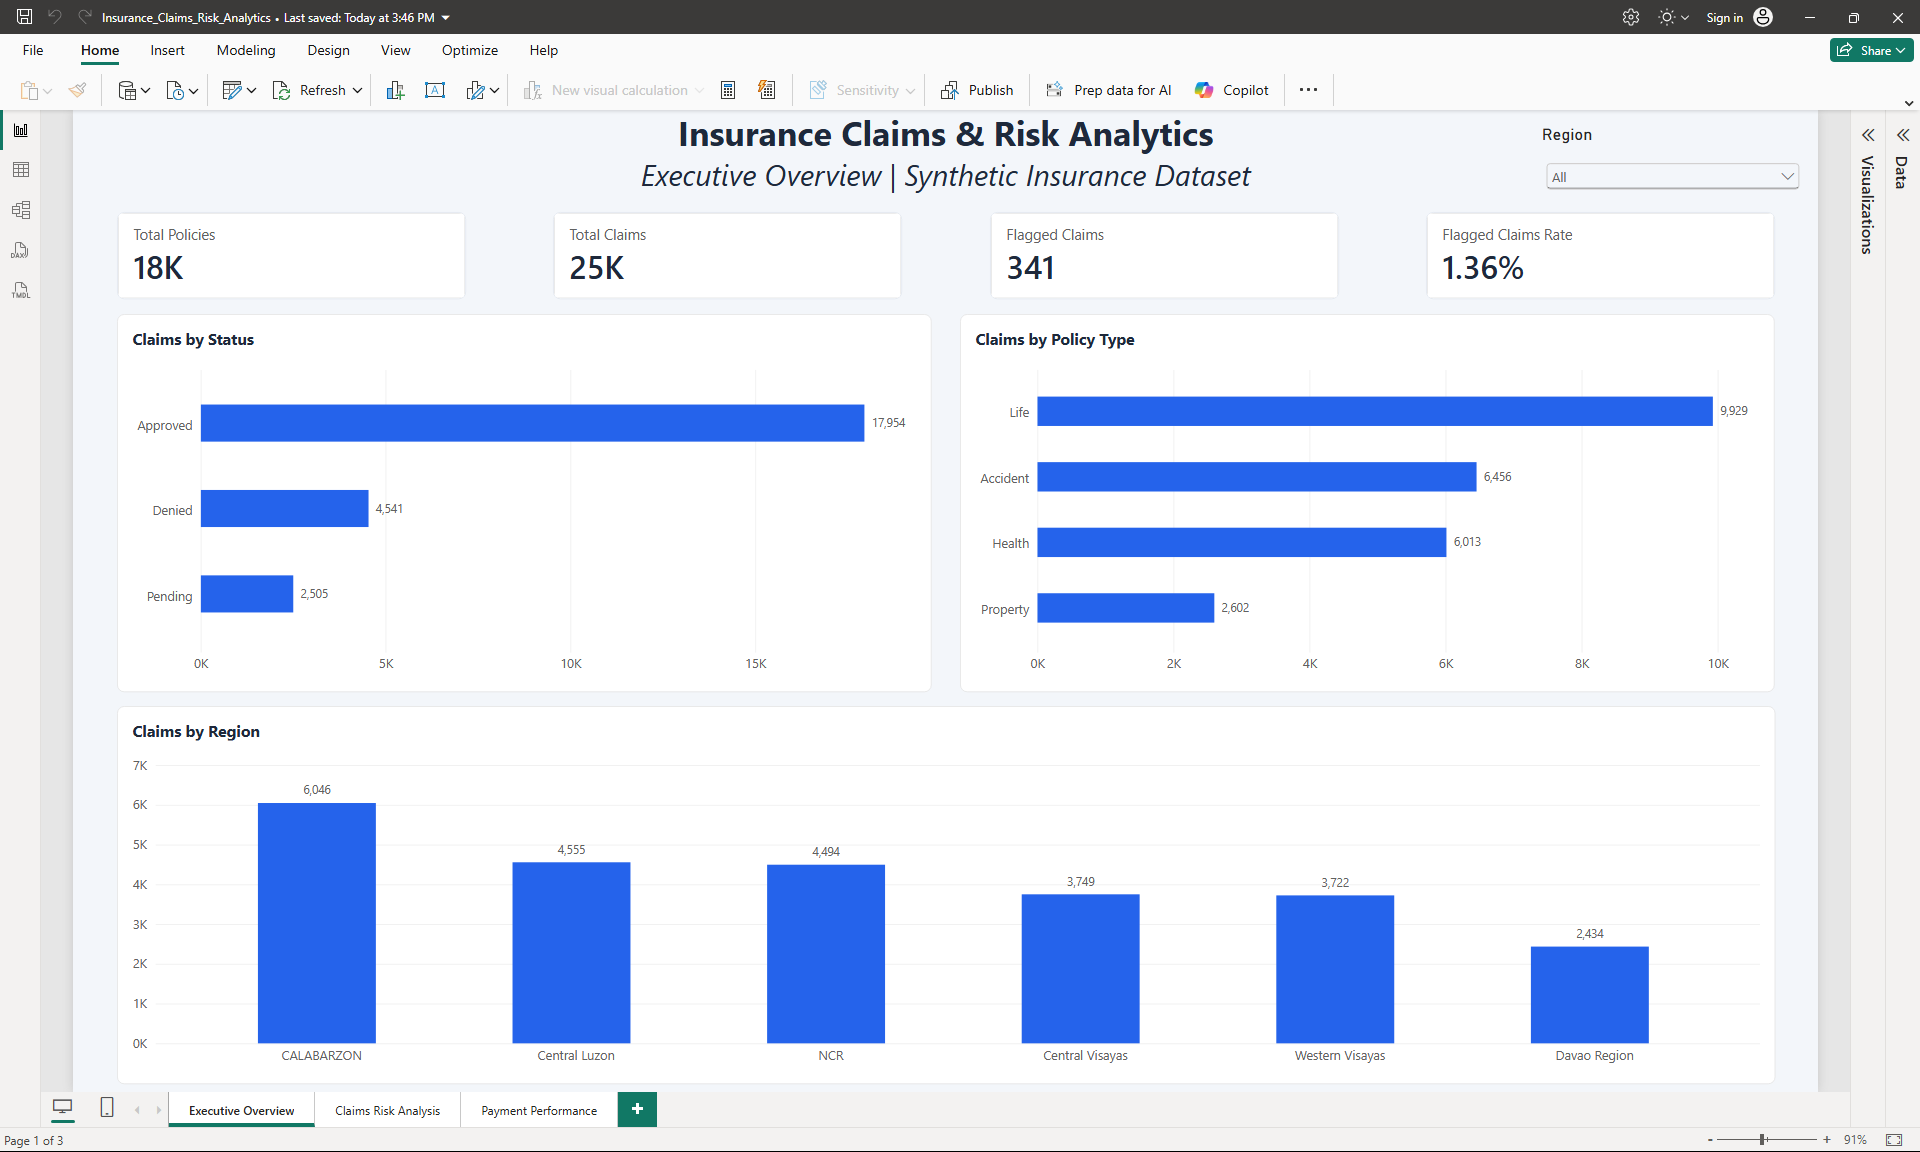

The page's visual inventory and layout, read from the dashboard file:
{"tool":"powerbi","page":{"name":"Executive Overview","canvas":[1920,1080],"ordinal":0},"visuals":[{"type":"textbox","box":[479.7,0,960.6,96.2],"z":0},{"type":"cardVisual","fields":{"Data":["Policies.Total Policies"]},"box":[48,112,384,96],"z":1000},{"type":"cardVisual","fields":{"Data":["Claims.Flagged Claims"]},"box":[1008,112,384,96],"z":2000},{"type":"cardVisual","fields":{"Data":["Claims.Flagged Claims Rate"]},"box":[1488,112,384,96],"z":3000},{"type":"cardVisual","fields":{"Data":["Claims.Total Claims"]},"box":[528,112,384,96],"z":4000},{"type":"clusteredBarChart","title":"Claims by Status","fields":{"Category":["Claims.claim_status"],"Y":["Claims.Total Claims"]},"box":[48,224,896,416],"z":5000},{"type":"clusteredBarChart","title":"Claims by Policy Type","fields":{"Category":["Policies.policy_type"],"Y":["Claims.Total Claims"]},"box":[976,224,896,416],"z":6000},{"type":"slicer","title":"Region","fields":{"Values":["Customers.region"]},"box":[1616,16,288,80],"z":7000},{"type":"clusteredColumnChart","title":"Claims by Region","fields":{"Category":["Customers.region"],"Y":["Claims.Total Claims"]},"box":[48,656,1824,416],"z":8000}]}

Visuals, with their boxes on the page's 1920x1080 design canvas (x1, y1, x2, y2). These are canvas units, not pixel positions in the 1920x1152 screenshot, which may show the page scaled, cropped or inside an application window:
textbox: select_region(480, 0, 1440, 96)
cardVisual - Policies.Total Policies: select_region(48, 112, 432, 208)
cardVisual - Claims.Flagged Claims: select_region(1008, 112, 1392, 208)
cardVisual - Claims.Flagged Claims Rate: select_region(1488, 112, 1872, 208)
cardVisual - Claims.Total Claims: select_region(528, 112, 912, 208)
"Claims by Status" clusteredBarChart: select_region(48, 224, 944, 640)
"Claims by Policy Type" clusteredBarChart: select_region(976, 224, 1872, 640)
"Region" slicer: select_region(1616, 16, 1904, 96)
"Claims by Region" clusteredColumnChart: select_region(48, 656, 1872, 1072)
